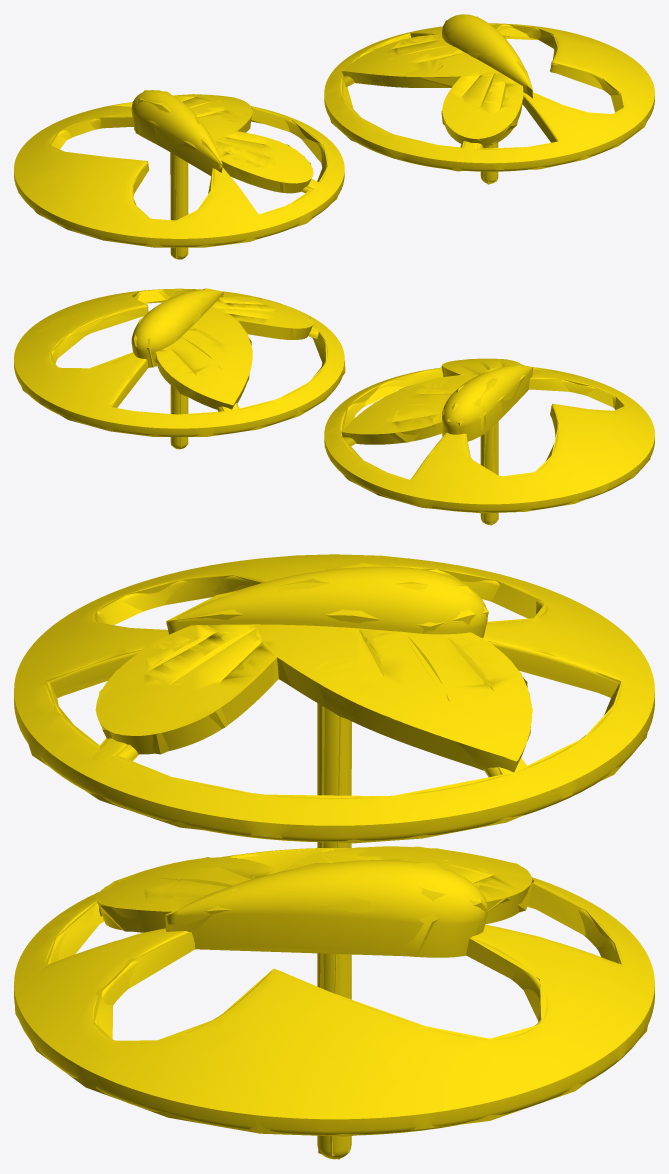
3 views of the same model, one above another, from view 1: azimuth 30°, elevation 25°; view 2: azimuth 150°, elevation 25°; view 3: azimuth 270°, elevation 25° (orthographic). The views are drawn at different scales.
Visible parts, largest first — view 1: highPolyMesh, lowPolyMesh; view 2: highPolyMesh, lowPolyMesh; view 3: highPolyMesh, lowPolyMesh.
Boxes of the visible parts, x1=… form: highPolyMesh: x1=14, y1=14, x2=654, y2=259; lowPolyMesh: x1=14, y1=15, x2=654, y2=259; highPolyMesh: x1=14, y1=288, x2=654, y2=524; lowPolyMesh: x1=14, y1=288, x2=654, y2=525; highPolyMesh: x1=14, y1=554, x2=654, y2=1159; lowPolyMesh: x1=14, y1=555, x2=649, y2=1159.
Bounding box in the file's own units: 0.0313 × 0.0076 × 0.015.
